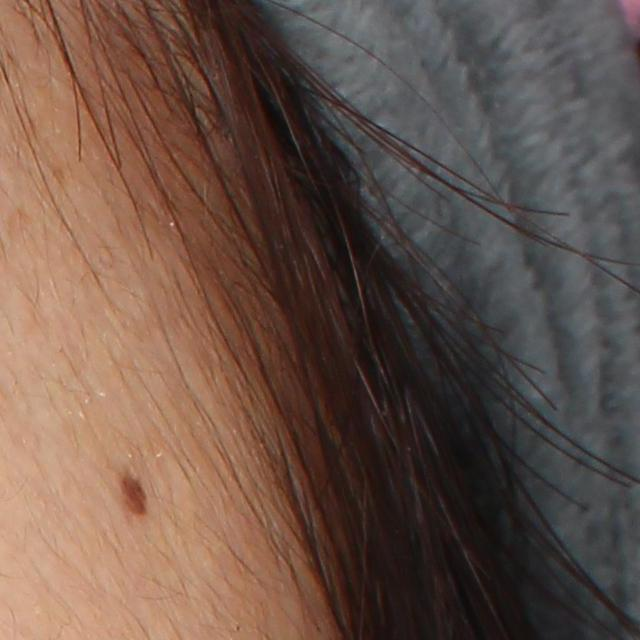nevus: (114, 467, 150, 520)
